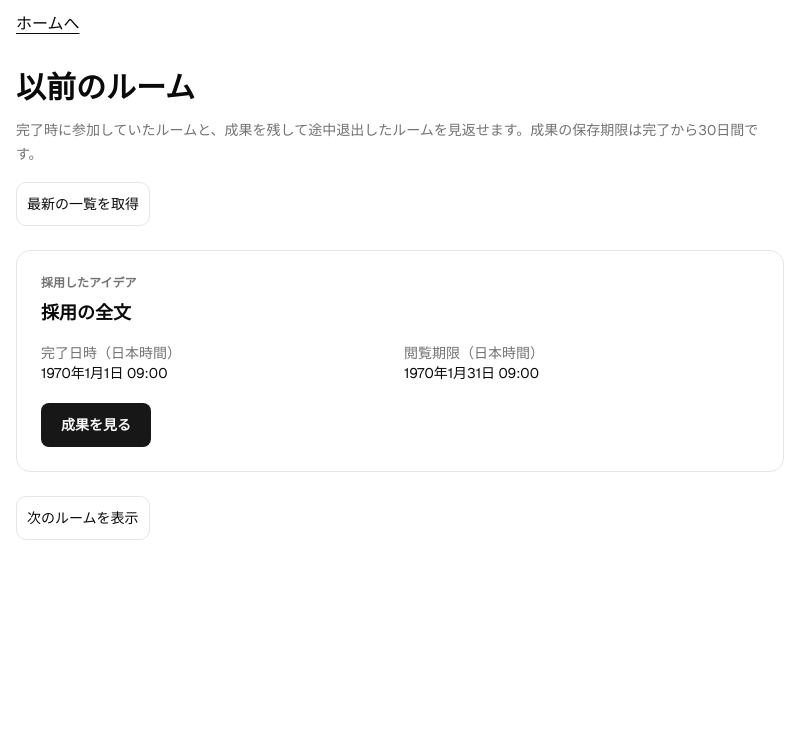
Scenario: 本人の完了ルーム › 続きを重複なく追加し、成功後の更新は先頭ページから取り直す
expect the heading "採用の全文" is shown: met, box x1=41 y1=301 x2=131 y2=324
Click the button "次のルームを表示".
click(83, 518)  # box x1=16 y1=496 x2=150 y2=540
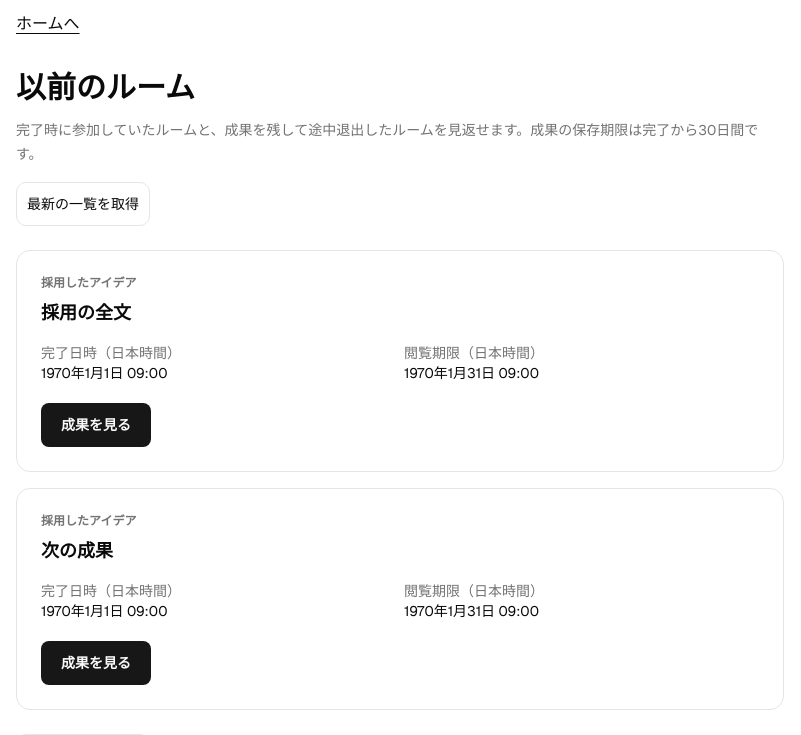
expect the heading "次の成果" is shown: met, box x1=41 y1=539 x2=113 y2=562
expect the number of links "成果を見る" is 2: met, box x1=41 y1=403 x2=151 y2=447; x1=41 y1=641 x2=151 y2=685
Click the button "最新の一覧を取得".
click(83, 204)  # box x1=16 y1=182 x2=150 y2=226
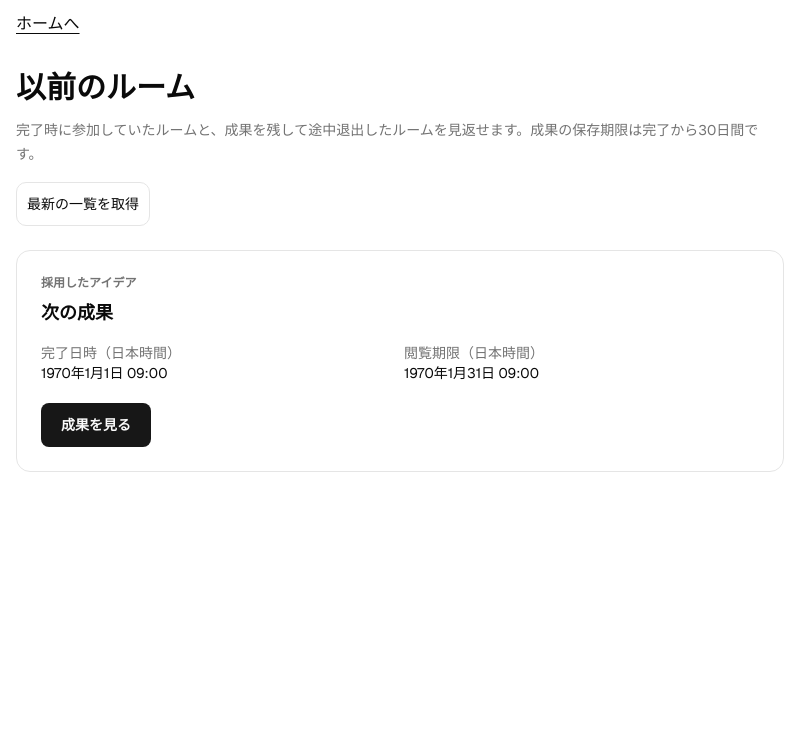
expect the heading "採用の全文" is gone: met
